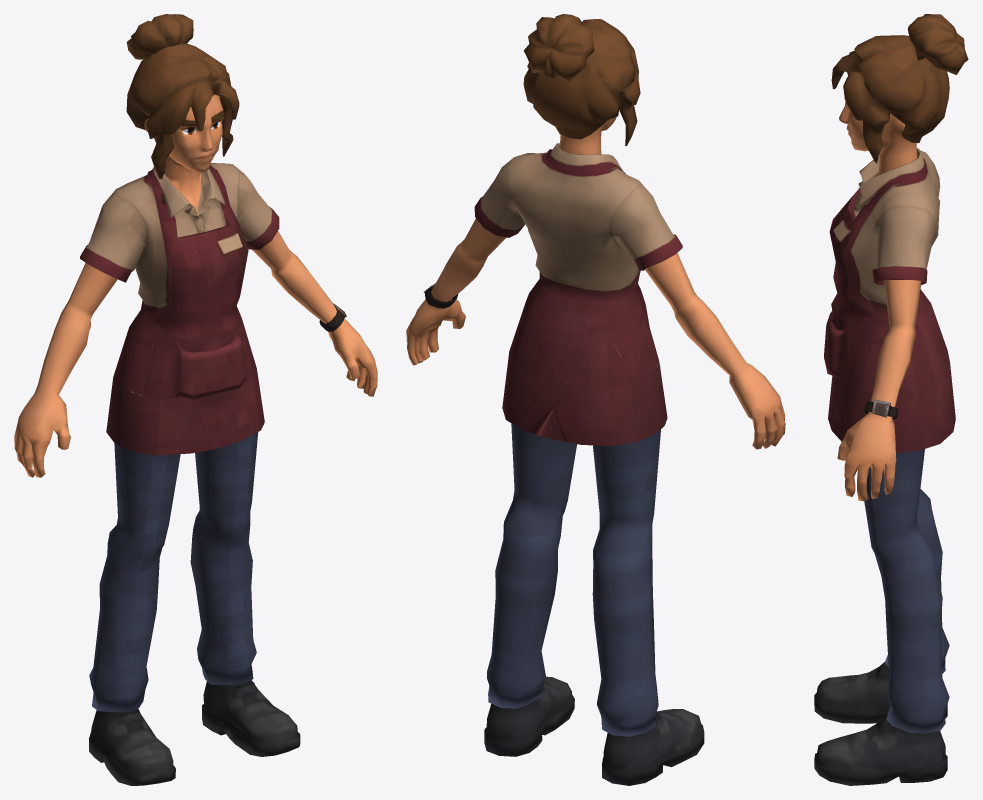
Rendered from clerk_burgundy.glb.
3 renders of one model, left to right at view 1: azimuth 30°, elevation 25°; view 2: azimuth 150°, elevation 25°; view 3: azimuth 270°, elevation 25°, orthographic. The views are drawn at different scales.
Visible parts, largest first — view 1: geometry_0; view 2: geometry_0; view 3: geometry_0.
Part boxes in pixels (x1,y1,x2,y2): geometry_0: [14, 14, 377, 785]; geometry_0: [406, 14, 785, 785]; geometry_0: [814, 14, 968, 785].
Size of the model in its own units: 0.4932 by 0.9512 by 0.1831.
1 material, 1 textured.
